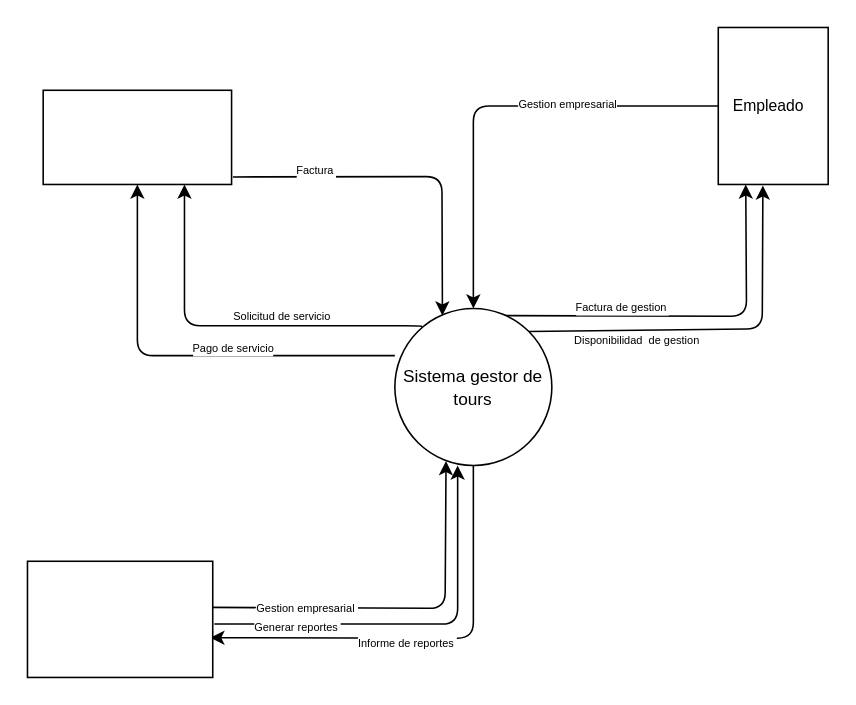
Image size: 856x705. Some labels were removed from this diagram. The box of each missing label's shape, as (x1, y1, x2, y2) in pixels:
Administrador: (26, 560, 213, 677)
Proveedor: (42, 89, 232, 184)
